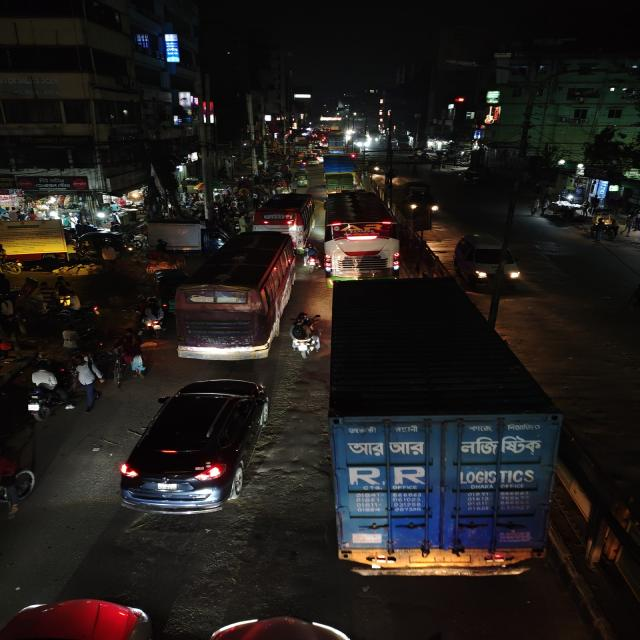bus: (172, 231, 296, 361), (322, 188, 404, 281), (250, 193, 317, 235)
car: (115, 374, 276, 520), (449, 232, 525, 288), (401, 186, 442, 217)
cng: (457, 170, 483, 187), (291, 171, 311, 188)
motorcycle: (22, 368, 64, 422), (286, 312, 323, 362), (132, 296, 166, 339), (302, 239, 321, 273)
pedestrian: (70, 360, 106, 410), (109, 356, 130, 390), (129, 350, 149, 380), (589, 222, 608, 242)
rickshaw: (135, 244, 186, 276)
truck: (328, 284, 568, 579), (321, 155, 361, 193)
